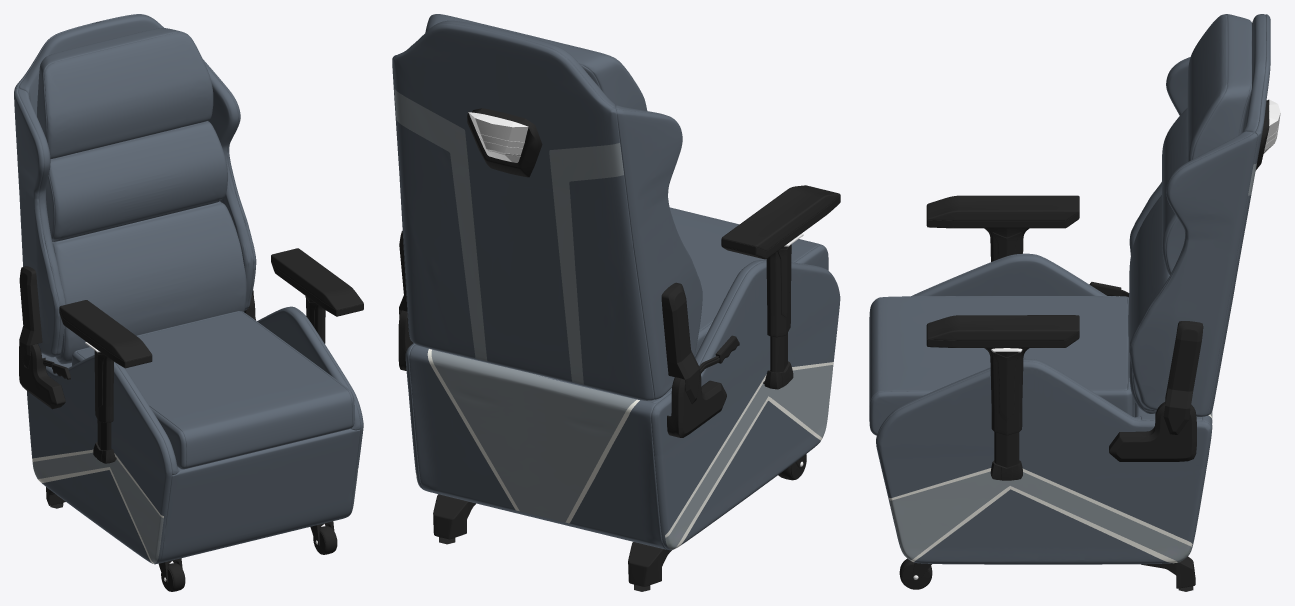
File: sofa5.gltf
The picture shows the model from 3 angles, left to right: view 1: azimuth 30°, elevation 25°; view 2: azimuth 150°, elevation 25°; view 3: azimuth 270°, elevation 25°; orthographic projection. The views are drawn at different scales.
Visible parts, largest first — view 1: main, armrest, accent, accent1; view 2: main, accent, armrest, armrest1, accent1; view 3: main, armrest, accent, accent1, armrest1.
Boxes of the visible parts, x1=… form: main: x1=14, y1=14, x2=363, y2=564; armrest: x1=19, y1=248, x2=363, y2=591; accent: x1=32, y1=452, x2=357, y2=563; accent1: x1=32, y1=449, x2=358, y2=563; main: x1=392, y1=14, x2=840, y2=550; accent: x1=394, y1=88, x2=833, y2=549; armrest: x1=398, y1=185, x2=840, y2=591; armrest1: x1=467, y1=108, x2=803, y2=466; accent1: x1=415, y1=349, x2=833, y2=548; main: x1=869, y1=14, x2=1270, y2=564; armrest: x1=899, y1=195, x2=1203, y2=591; accent: x1=890, y1=163, x2=1256, y2=562; accent1: x1=889, y1=414, x2=1212, y2=563; armrest1: x1=913, y1=99, x2=1280, y2=579.
Size of the model in its own units: 0.0821 by 0.1419 by 0.1038.
4 materials, 1 textured.
